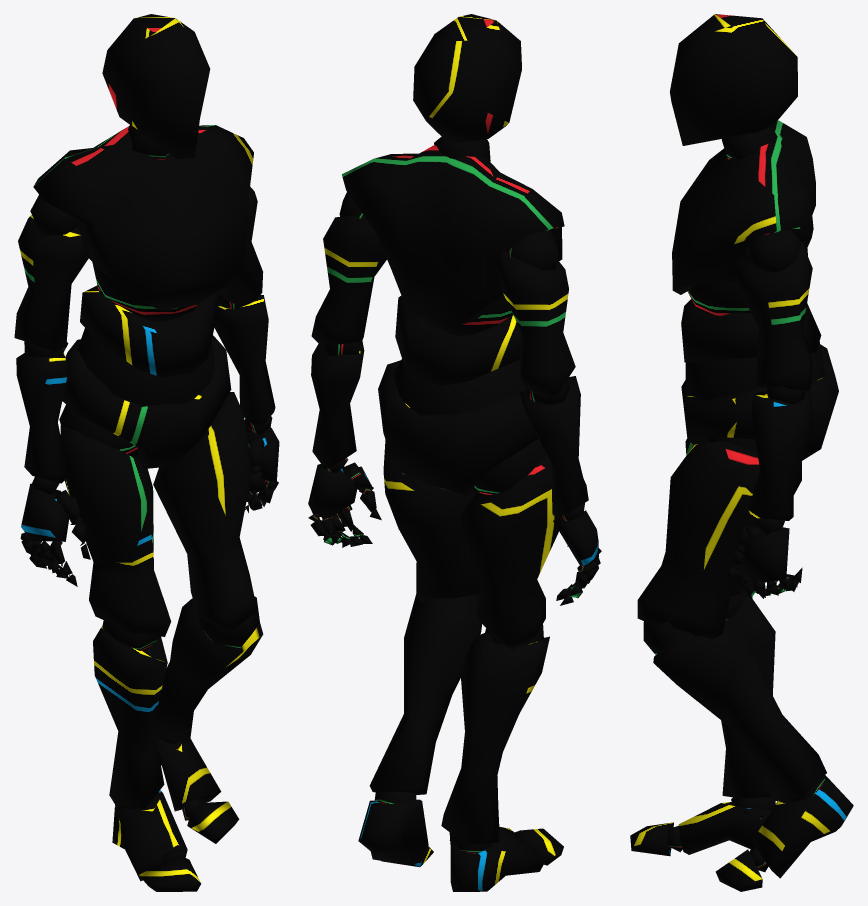
Rendered from y-bot-origin_000013.obj.
3 renders of one model, left to right at view 1: azimuth 30°, elevation 25°; view 2: azimuth 150°, elevation 25°; view 3: azimuth 270°, elevation 25°, orthographic. The views are drawn at different scales.
Visible parts, largest first — view 1: Alpha_Surface_Alpha_SurfaceMesh, Alpha_Joints_Alpha_JointsMesh; view 2: Alpha_Surface_Alpha_SurfaceMesh, Alpha_Joints_Alpha_JointsMesh; view 3: Alpha_Surface_Alpha_SurfaceMesh, Alpha_Joints_Alpha_JointsMesh.
Part boxes in pixels (bbox=[...]): Alpha_Surface_Alpha_SurfaceMesh: bbox=[14, 14, 279, 891]; Alpha_Joints_Alpha_JointsMesh: bbox=[20, 125, 278, 861]; Alpha_Surface_Alpha_SurfaceMesh: bbox=[308, 14, 598, 891]; Alpha_Joints_Alpha_JointsMesh: bbox=[308, 136, 601, 863]; Alpha_Surface_Alpha_SurfaceMesh: bbox=[630, 14, 853, 891]; Alpha_Joints_Alpha_JointsMesh: bbox=[643, 127, 825, 871].
Bounding box in the file's own units: 0.5897 × 1.79 × 0.4303.
